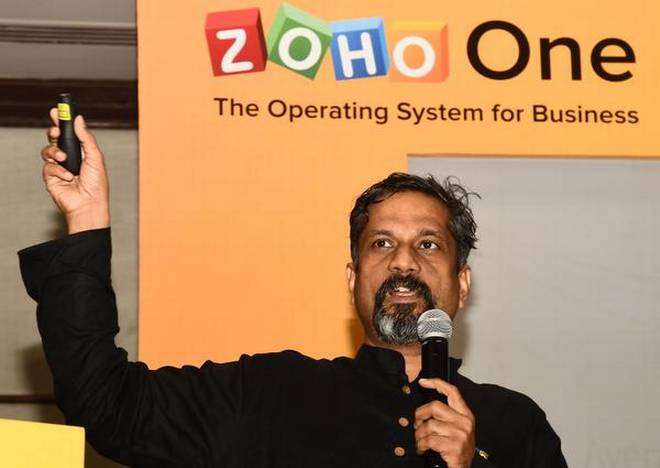zoho: (204, 4, 452, 86)
